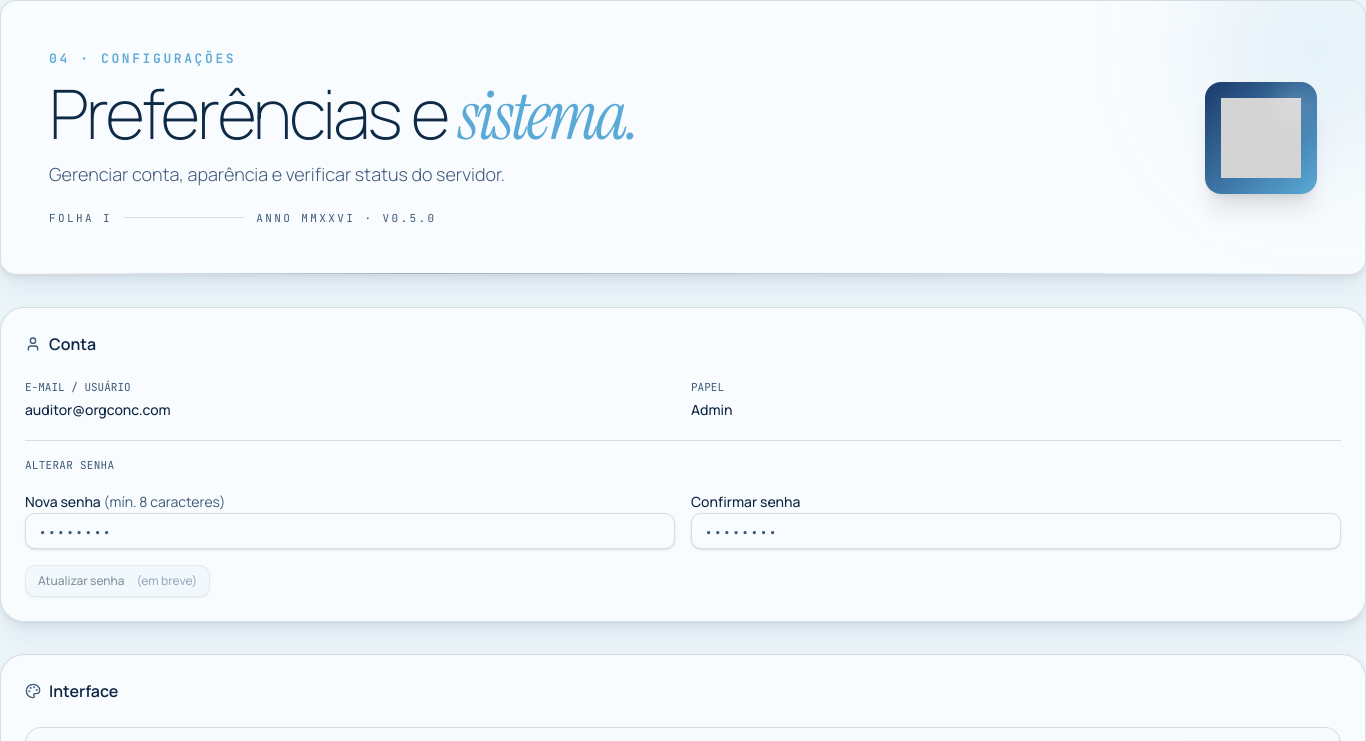
Scenario: ConfiguracoesPage › mostra erro de validacao quando as senhas nao coincidem
Step 1. Type "12345678" into the password field with placeholder "••••••••" below "Nova senha" → point(350, 531), box [25,513,675,549]
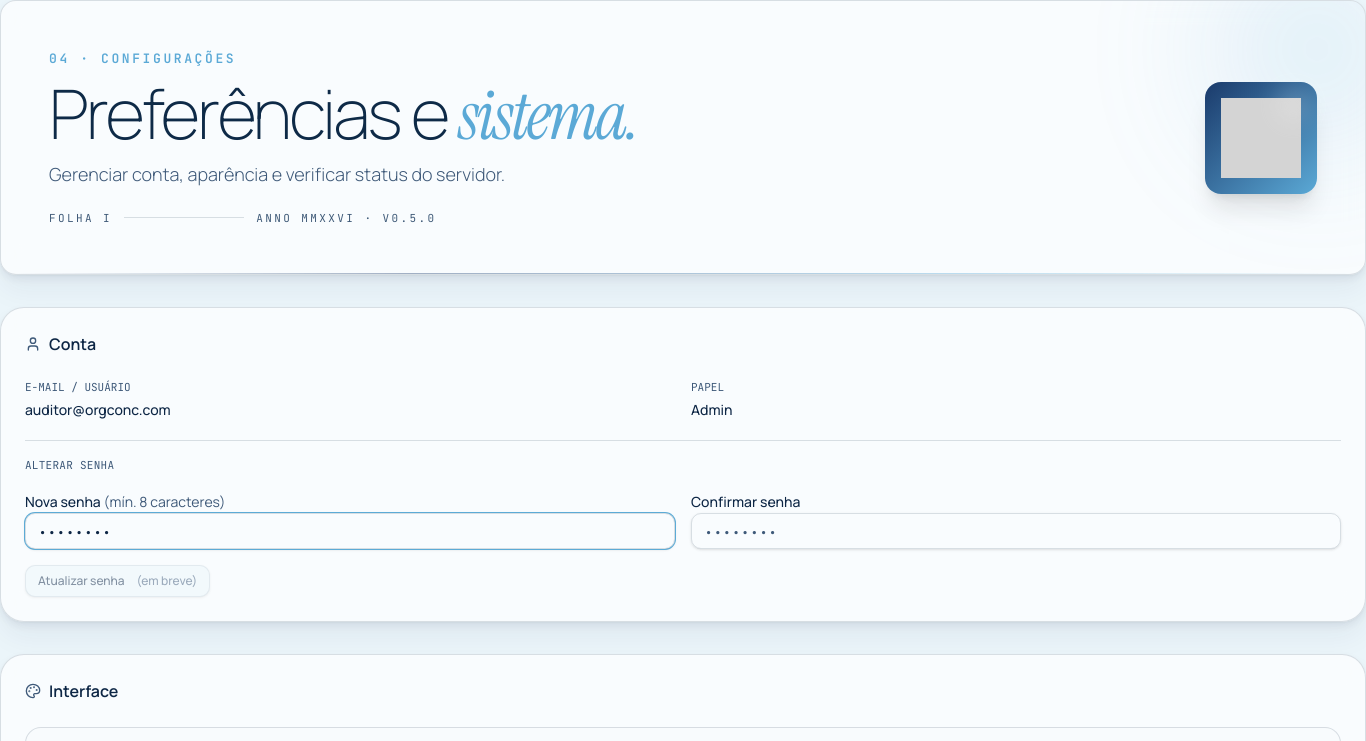
Step 2. Type "9999" into the password field with placeholder "••••••••" → point(1016, 531), box [691,513,1341,549]
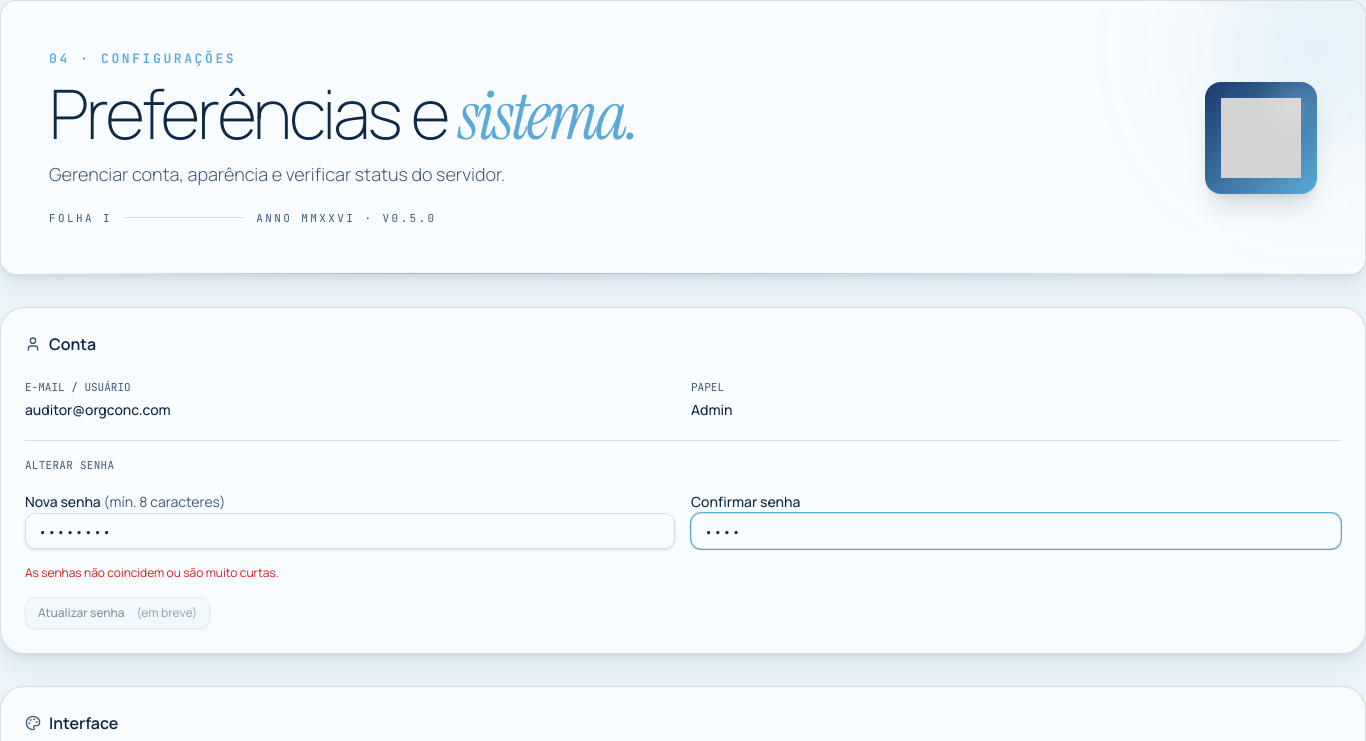
Expected: the button "Atualizar senha (em breve)" is disabled, [25,597,210,629]
Now the text "As senhas não coincidem ou são muito curtas." is shown, box [25,564,279,581]
